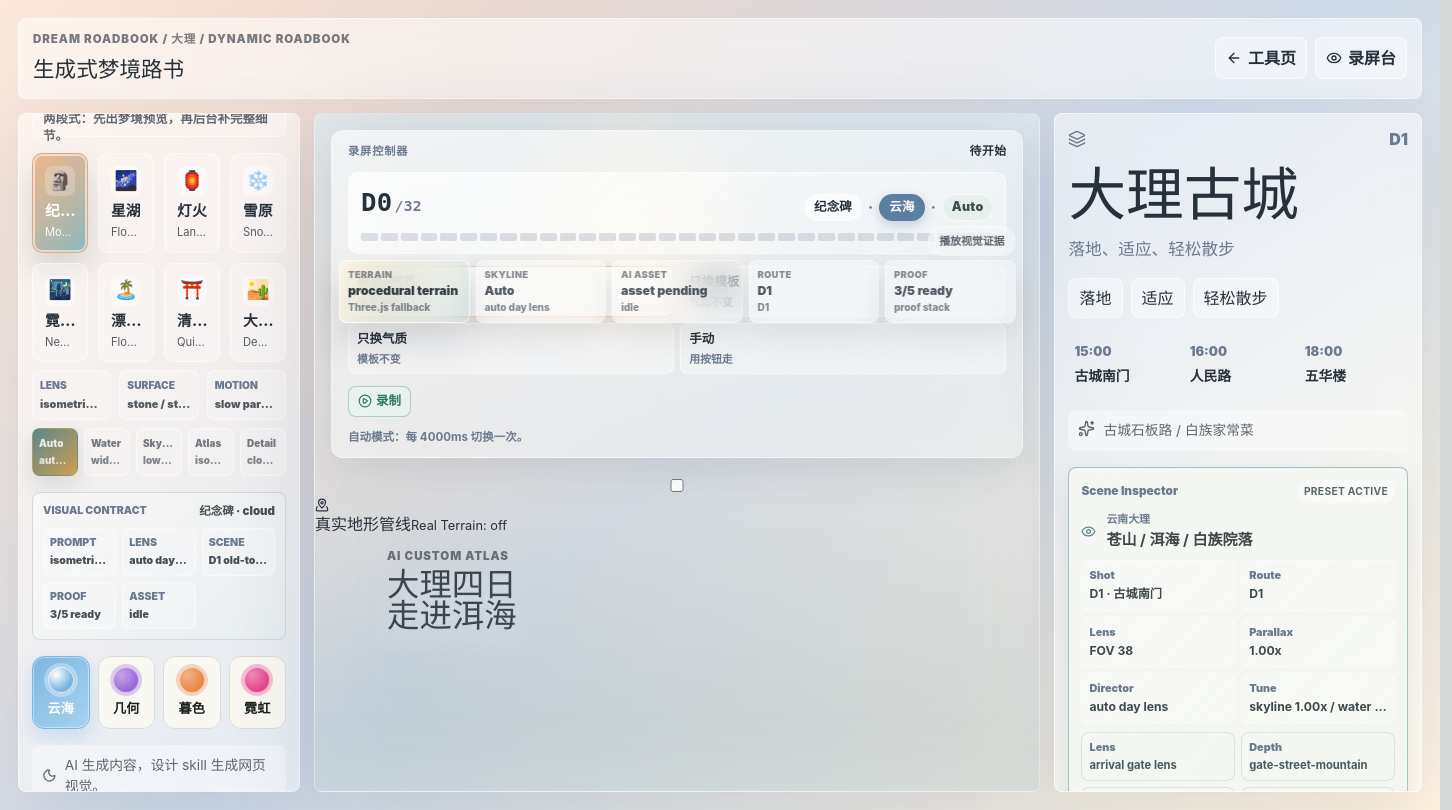
Test: DreamRoadbook a11y polish › lets the user switch Director Lens modes and updates the scene inspector
(page scrolled)
Click the button "Skyline low-skyline lens" at (159, 452), box x1=136 y1=428 x2=182 y2=476
(page scrolled)
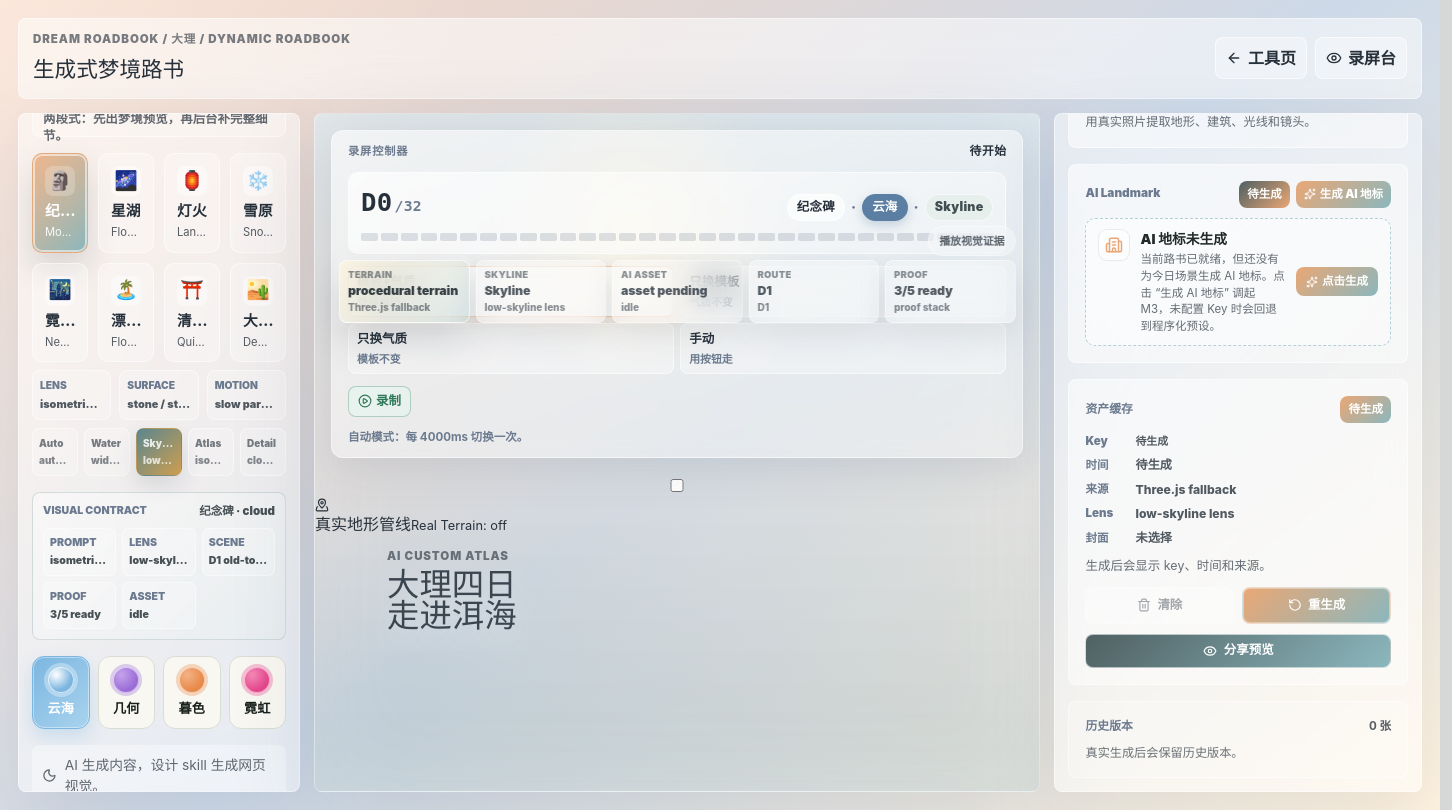
Result: the element named "预览资产管理面板" shows "low-skyline lens" at x1=1136 y1=506 x2=1234 y2=521
